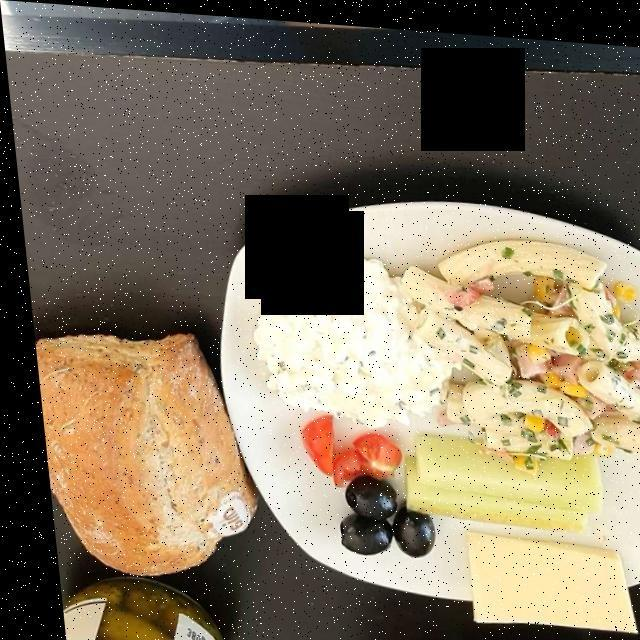black-olives: (330, 477, 422, 550)
bread: (29, 328, 252, 579)
cheese: (250, 255, 438, 412), (452, 533, 633, 626)
cucumber: (395, 431, 593, 527)
tomato: (289, 416, 393, 475)
